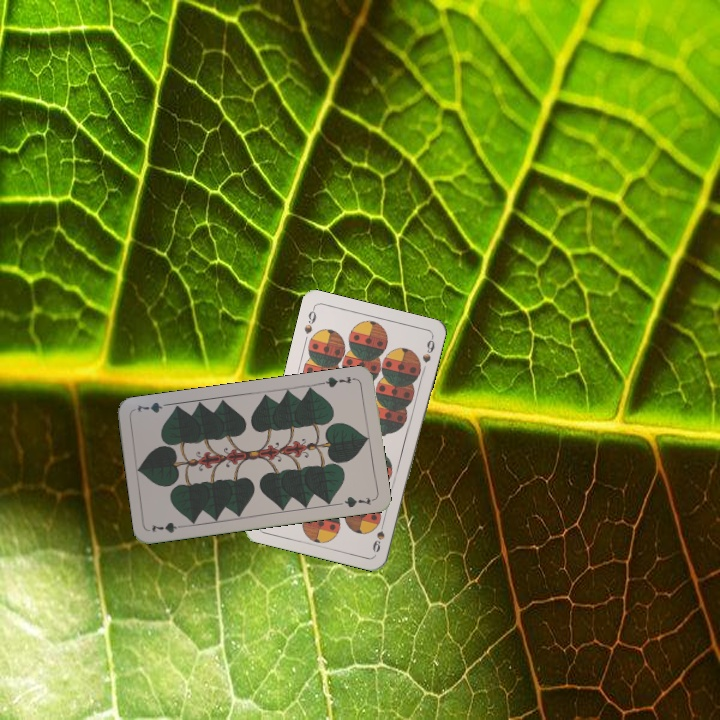G7: (318, 372, 358, 390), (148, 518, 188, 535)
S9: (368, 516, 388, 555), (300, 304, 319, 336)
